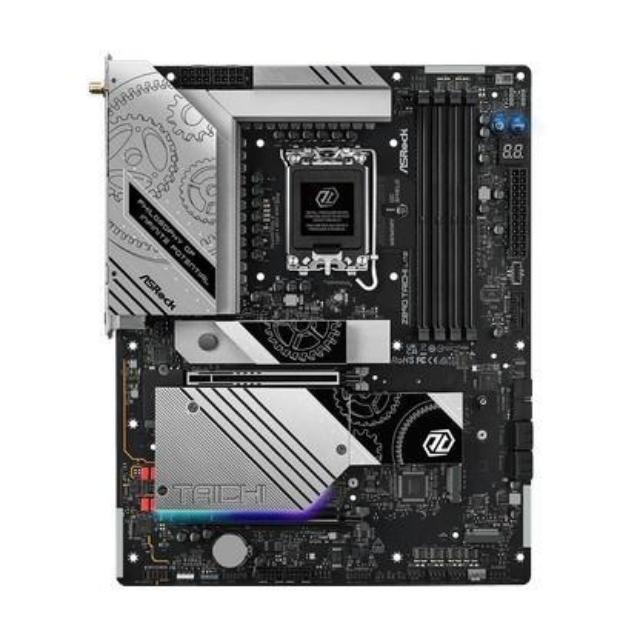Mainboard: (89, 47, 540, 584)
